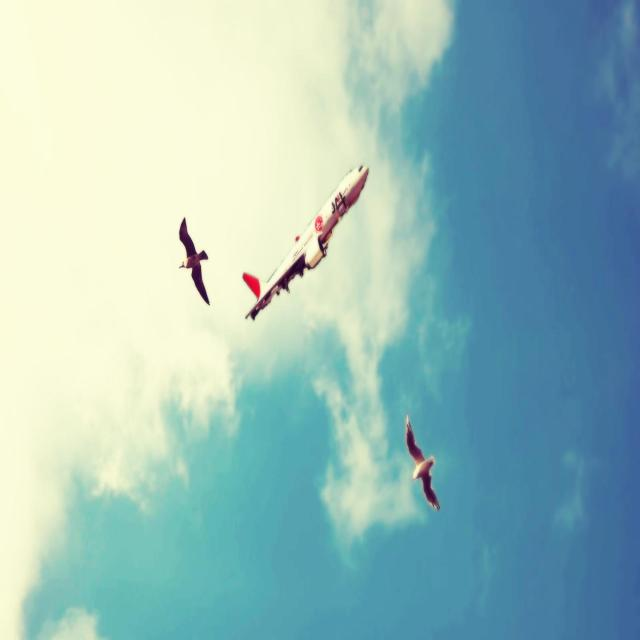airplane: (242, 163, 369, 321)
